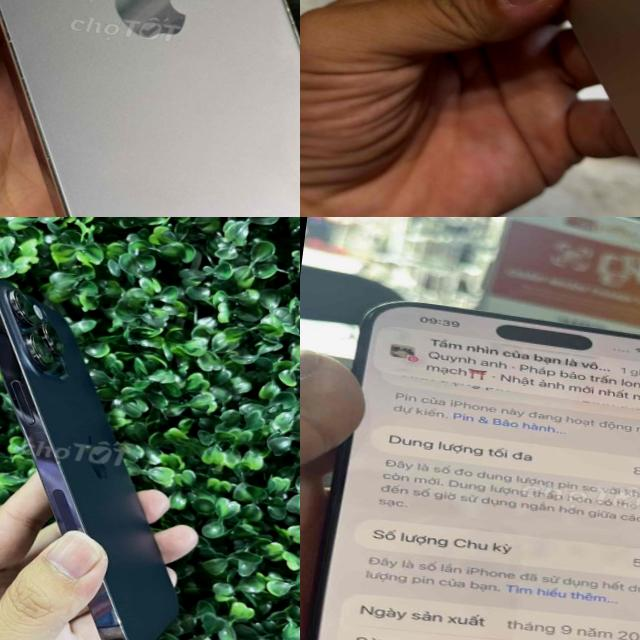gen_14: (0, 266, 243, 640), (0, 0, 300, 217)
gen_15: (300, 270, 640, 640)
